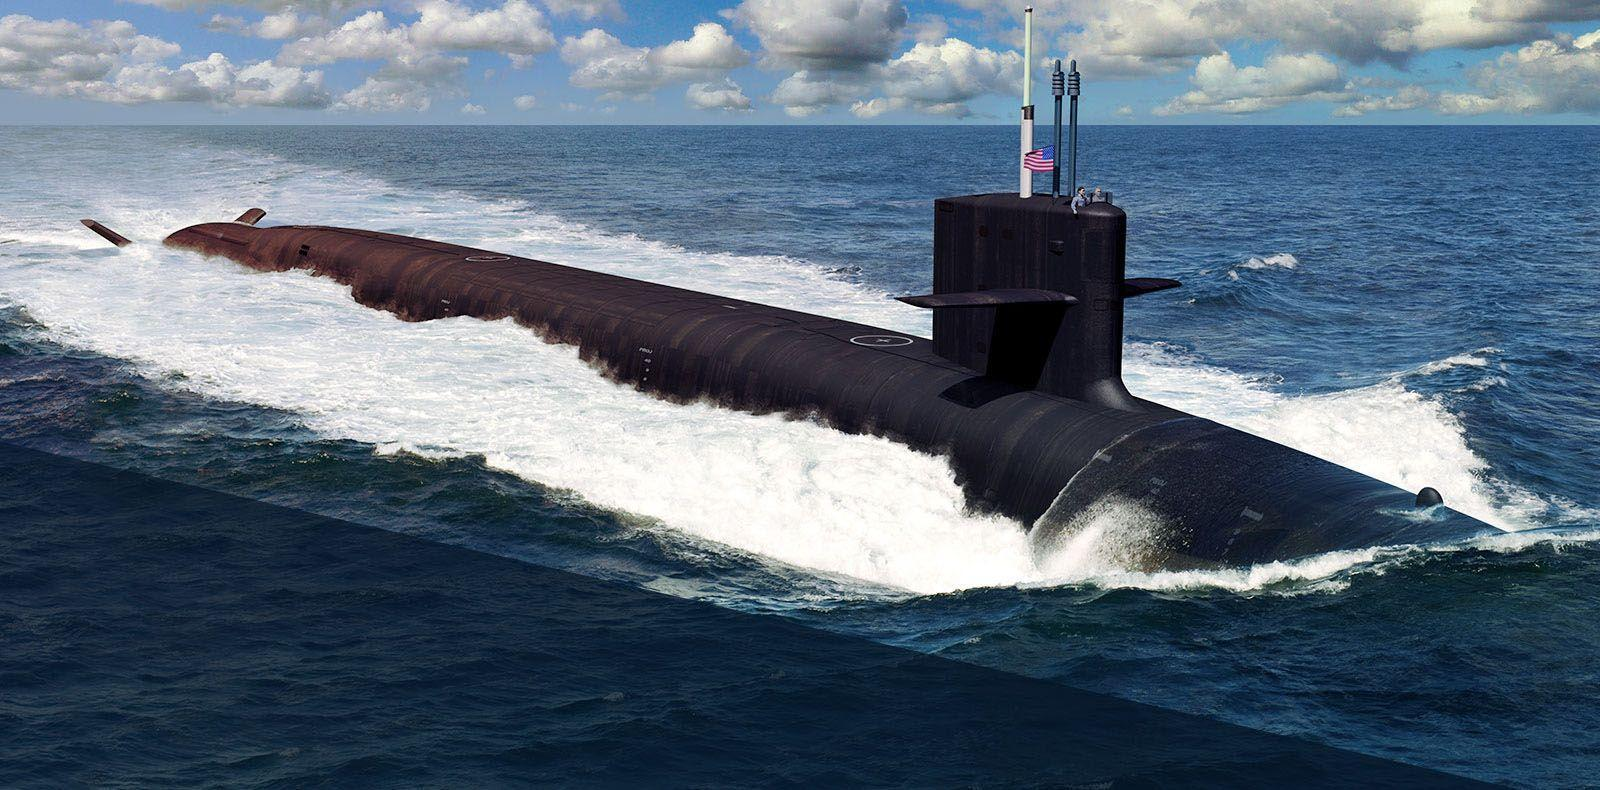Submarine: (34, 10, 1600, 726)
